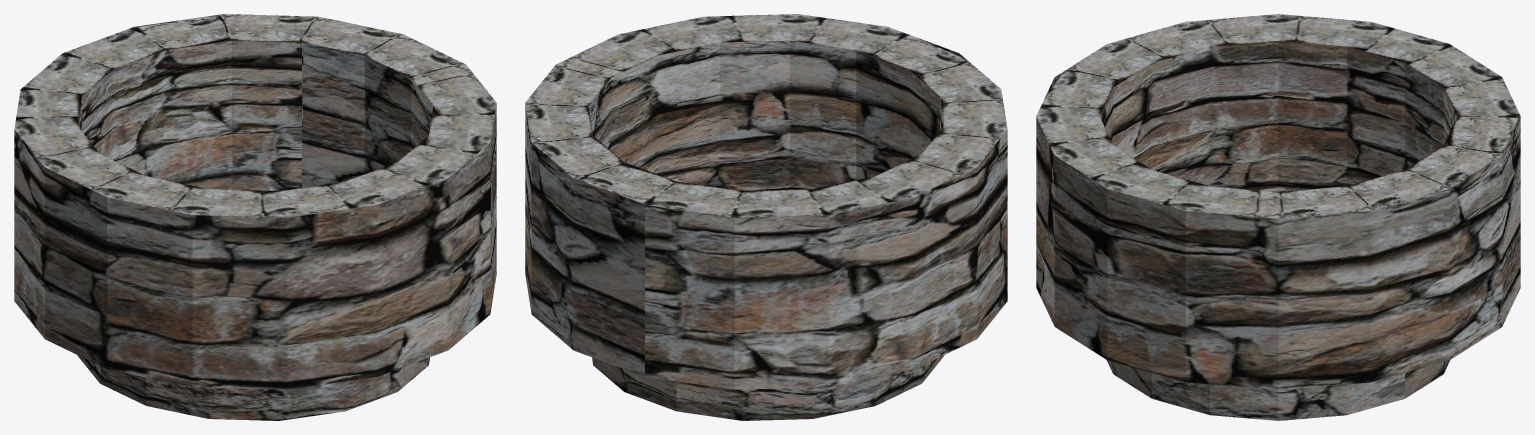
The model's file is PoçoAnomalia.fbx.
3 views of the same model, side by side, from view 1: azimuth 30°, elevation 25°; view 2: azimuth 150°, elevation 25°; view 3: azimuth 270°, elevation 25° (orthographic).
Visible parts, largest first — view 1: Cylinder; view 2: Cylinder; view 3: Cylinder.
Boxes of the visible parts, x1,y1,x2,y2 form: Cylinder: (14, 14, 496, 420); Cylinder: (525, 14, 1007, 420); Cylinder: (1036, 14, 1520, 420).
Size of the model in its own units: 722 by 377 by 722.
Materials: 1 (1 with a texture image).
